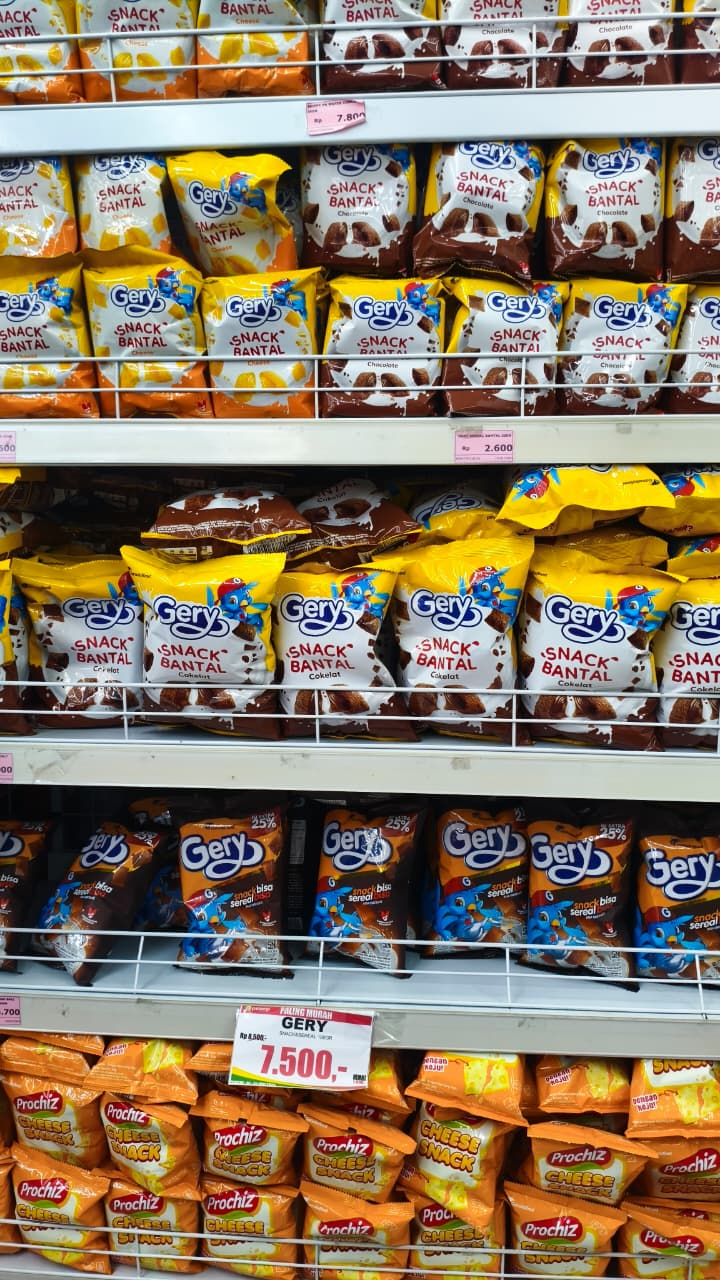Gery: (138, 562, 237, 658), (271, 566, 370, 662), (398, 557, 497, 653), (530, 573, 629, 669), (437, 796, 536, 892), (174, 801, 273, 897), (330, 261, 429, 357), (566, 268, 665, 364)
